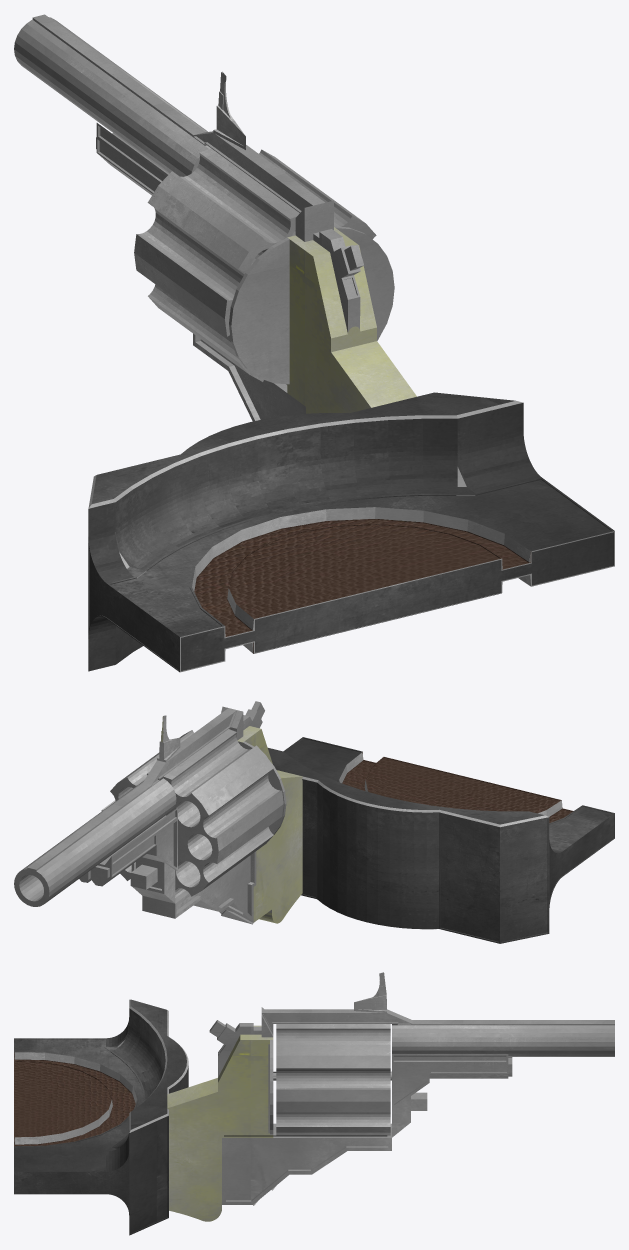
File: 44_revolver.obj
3 views of the same model, one above another, from view 1: azimuth 30°, elevation 25°; view 2: azimuth 150°, elevation 25°; view 3: azimuth 270°, elevation 25° (orthographic). The views are drawn at different scales.
Parts seen in each view (by area): view 1: Mesh31, Mesh01, Group2; view 2: Mesh31, Mesh01, Group2; view 3: Mesh01, Mesh31, Group2.
Part boxes in pixels (<box>): Mesh31: <box>88,392,614,672</box>; Mesh01: <box>14,14,416,421</box>; Group2: <box>213,71,245,149</box>; Mesh31: <box>268,737,614,943</box>; Mesh01: <box>14,701,302,924</box>; Group2: <box>157,715,180,762</box>; Mesh01: <box>167,1007,614,1221</box>; Mesh31: <box>14,999,188,1235</box>; Group2: <box>354,972,386,1012</box>.
Bounding box in the file's own units: 0.977 × 0.8253 × 1.86.
